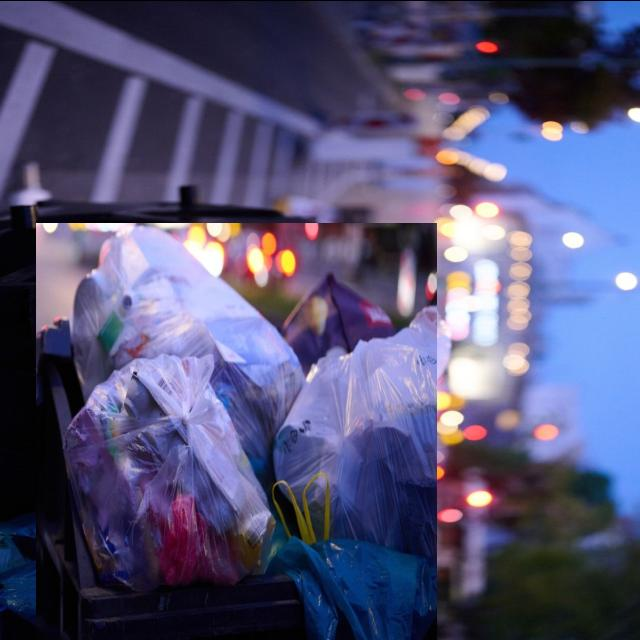garbage: (29, 230, 446, 640)
